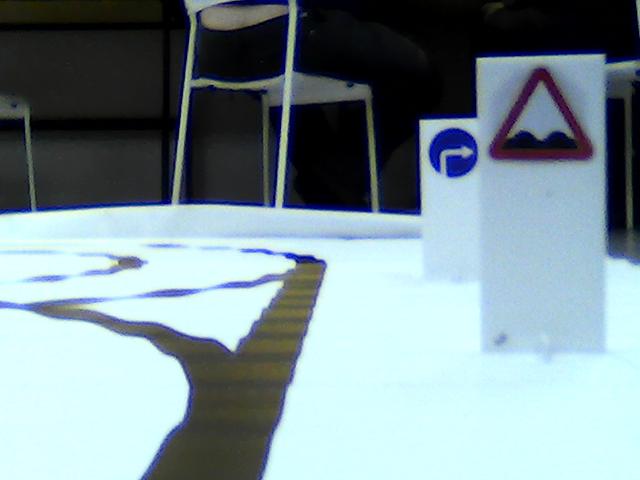Nerov: (487, 65, 594, 164)
Right: (429, 129, 475, 174)
